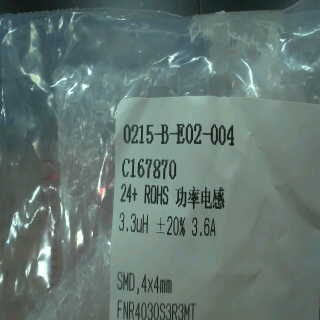3.3uH: (116, 205, 152, 239)
